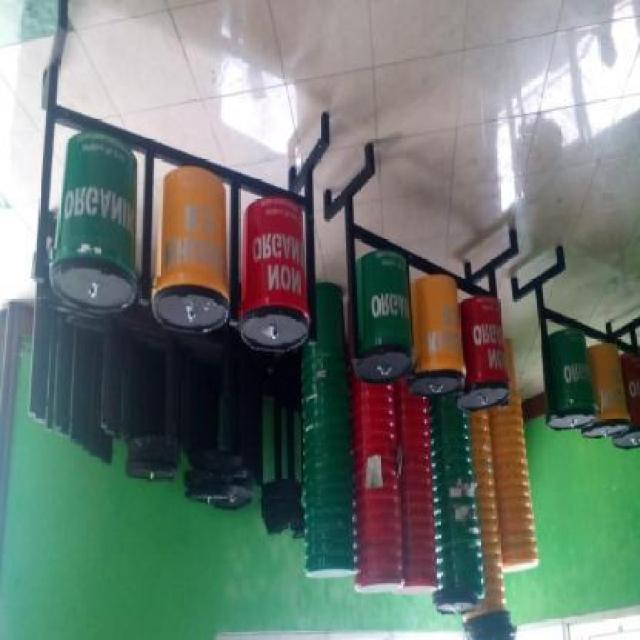garbage container: (46, 112, 140, 320), (146, 155, 234, 343), (234, 181, 314, 366), (349, 236, 417, 393), (457, 274, 514, 431), (408, 264, 463, 408), (542, 313, 598, 444)
